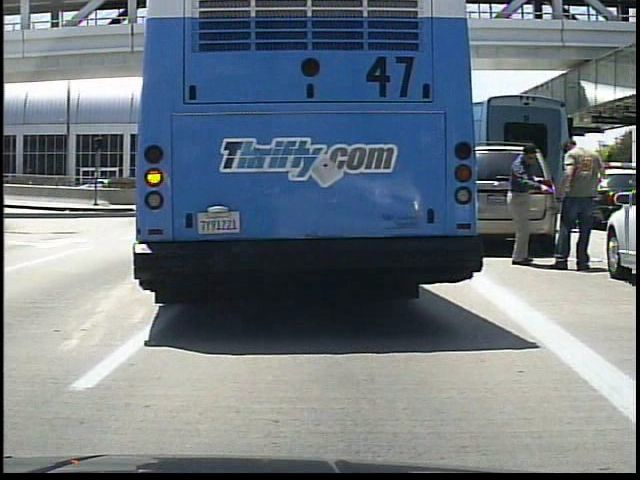person: (549, 123, 602, 280), (503, 133, 551, 268)
